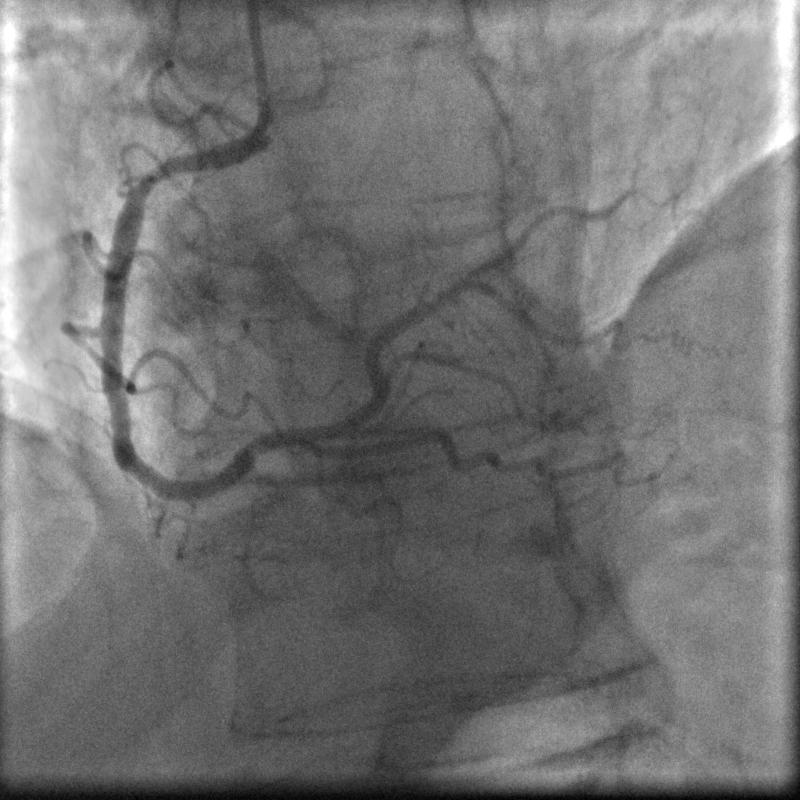Stenosis: (129, 158, 179, 190)
